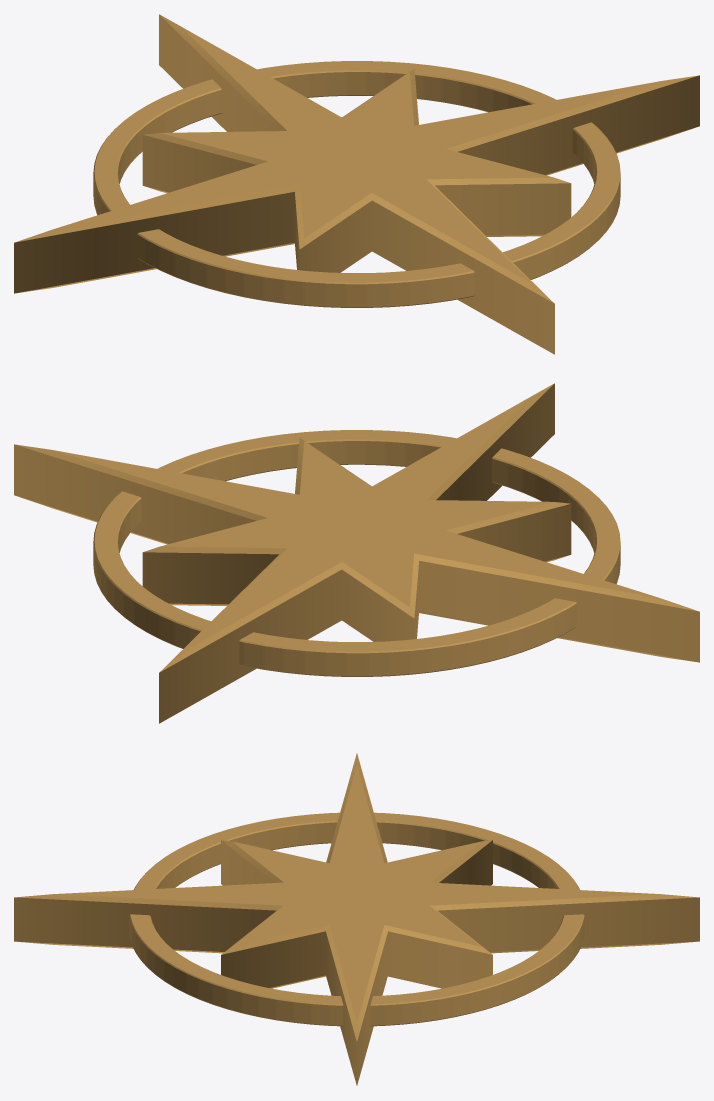
File: StarObject.fbx
3 views of the same model, one above another, from view 1: azimuth 30°, elevation 25°; view 2: azimuth 150°, elevation 25°; view 3: azimuth 270°, elevation 25° (orthographic). The views are drawn at different scales.
Visible parts, largest first — view 1: Cylinder; view 2: Cylinder; view 3: Cylinder.
Part boxes in pixels (x1,y1,x2,y2): Cylinder: [14, 14, 699, 354]; Cylinder: [14, 383, 699, 723]; Cylinder: [14, 753, 699, 1085].
Bounding box in the file's own units: 113 × 9.2 × 113.
